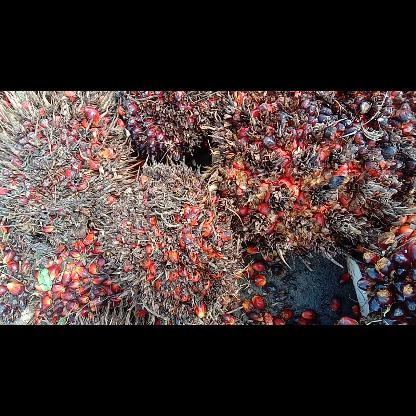Terlalu masak: (209, 90, 415, 272), (90, 152, 248, 324), (0, 91, 145, 236), (113, 91, 240, 164)
